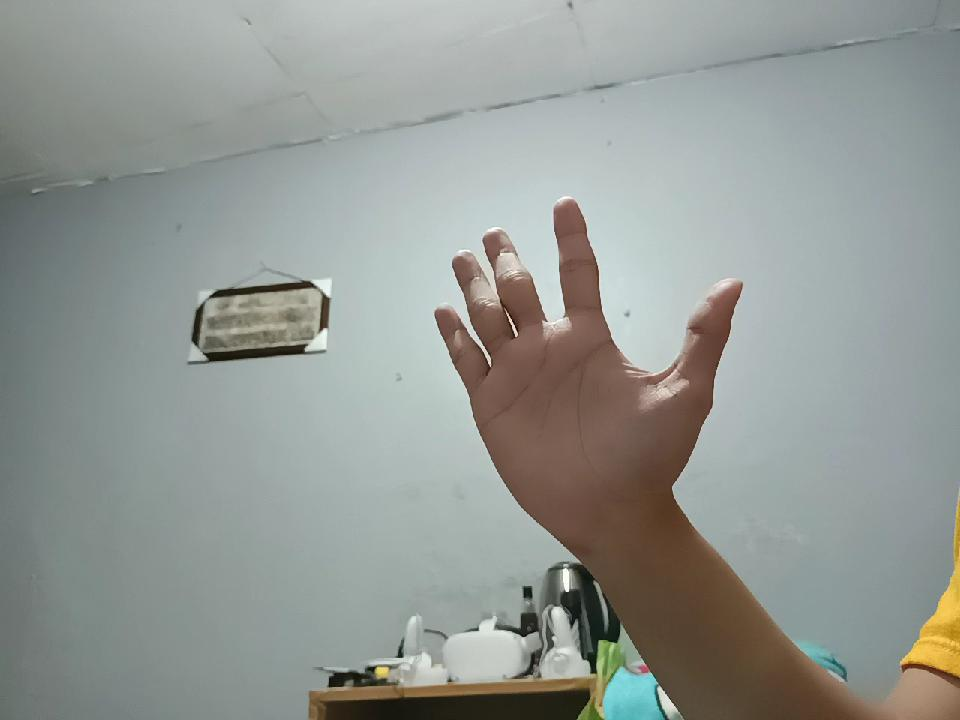paper: (428, 182, 730, 552)
